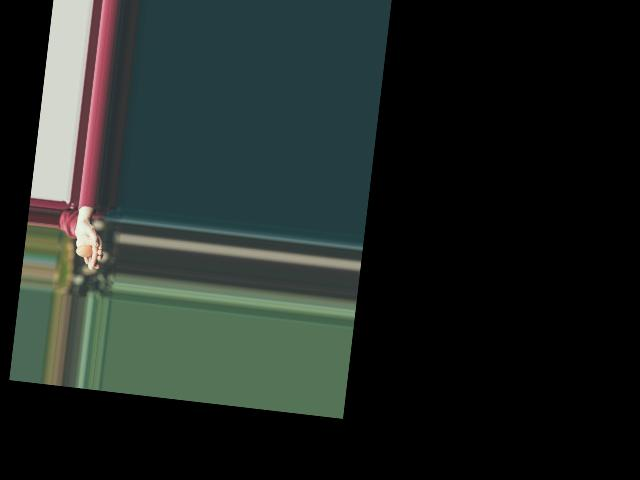egg: (75, 243, 93, 257)
